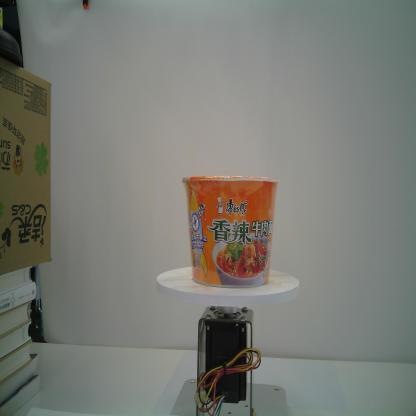Instant Noodles: (181, 175, 279, 289)
